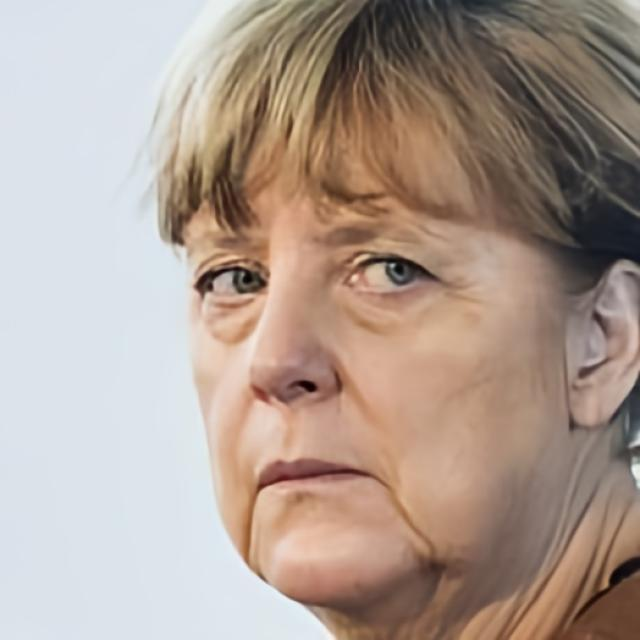sad: (182, 64, 570, 616)
